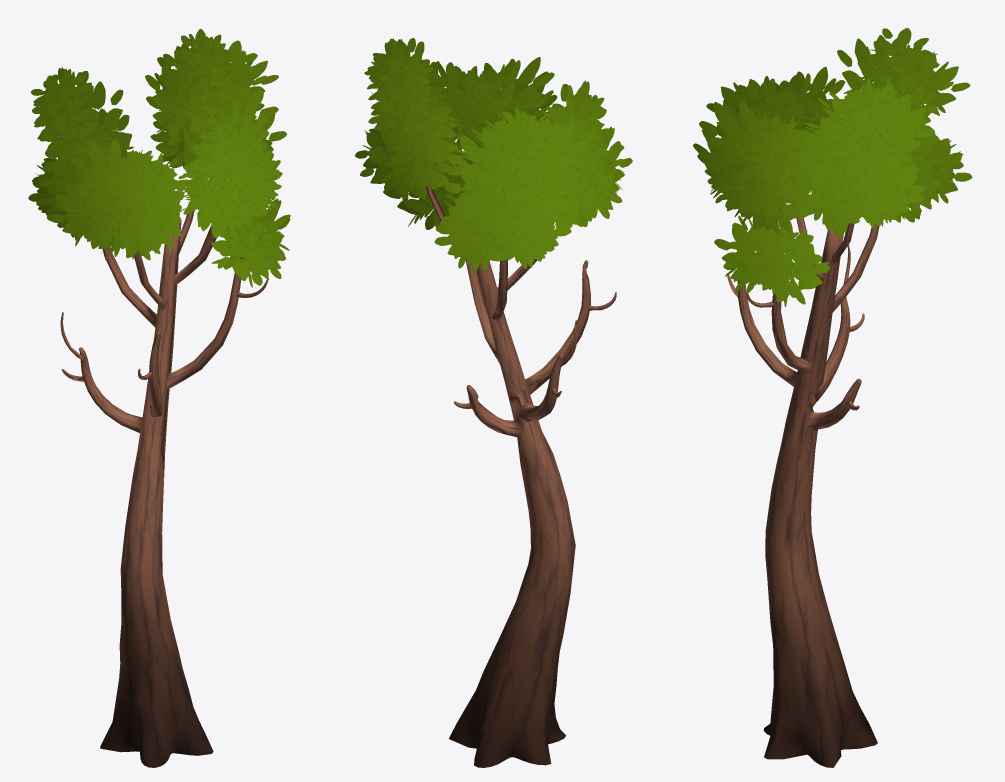
The model's file is nature-commontree-4.glb.
The picture shows the model from 3 angles, left to right: view 1: azimuth 30°, elevation 25°; view 2: azimuth 150°, elevation 25°; view 3: azimuth 270°, elevation 25°; orthographic projection. The views are drawn at different scales.
Parts seen in each view (by area): view 1: CommonTree_4; view 2: CommonTree_4; view 3: CommonTree_4.
Part boxes in pixels (x1,y1,x2,y2): CommonTree_4: (28, 29, 290, 767); CommonTree_4: (355, 38, 632, 767); CommonTree_4: (693, 28, 972, 767).
Bounding box in the file's own units: 3.83 × 9.44 × 3.76.
Materials: 2 (2 with a texture image).
